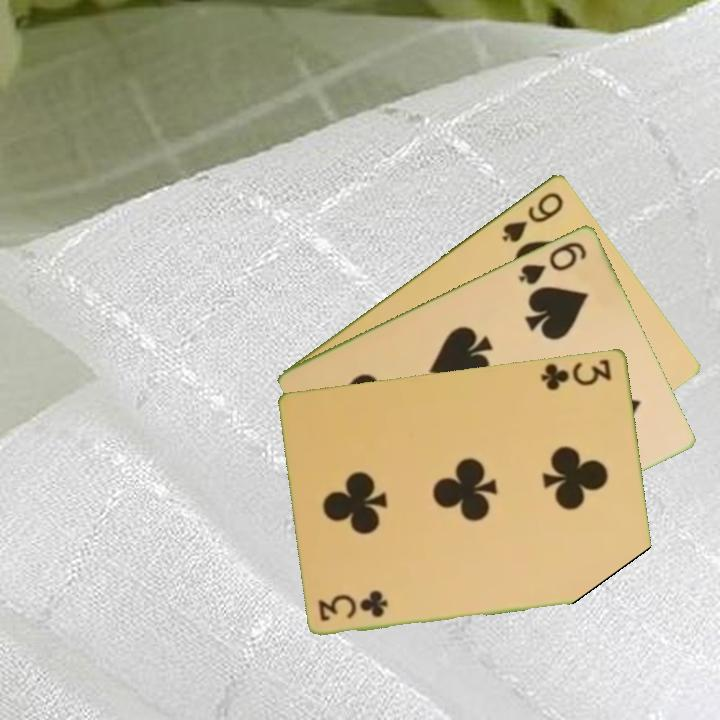3c: (538, 354, 615, 393), (315, 590, 392, 624)
6s: (515, 237, 590, 288)
9s: (498, 187, 567, 245)
